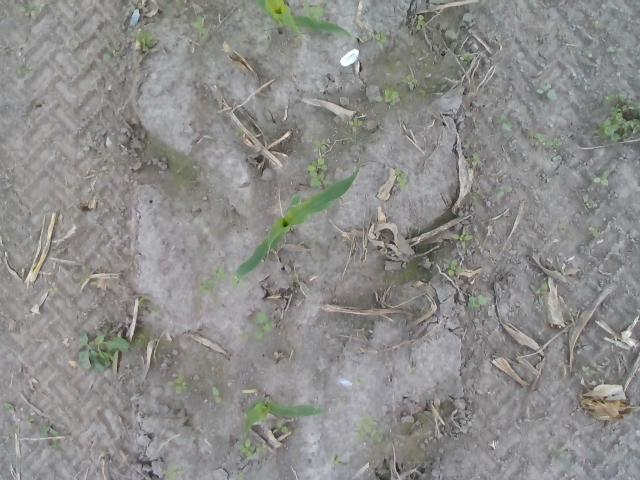Maize: (235, 167, 360, 278), (255, 0, 353, 38), (244, 396, 328, 432)
Weeds: (597, 92, 640, 144), (77, 330, 130, 372), (198, 263, 240, 296), (307, 138, 332, 188), (355, 412, 383, 442), (528, 129, 560, 152), (26, 415, 57, 438), (254, 310, 274, 342), (238, 438, 266, 460), (536, 79, 558, 103), (302, 0, 327, 21), (190, 13, 209, 40), (373, 88, 401, 106), (131, 30, 157, 48), (442, 256, 464, 276), (168, 373, 188, 395), (451, 230, 473, 248), (394, 164, 409, 190), (167, 462, 185, 480), (591, 170, 609, 188), (468, 294, 488, 310), (533, 278, 550, 296), (78, 264, 92, 285), (398, 74, 418, 88), (272, 418, 288, 434), (348, 118, 366, 132), (14, 63, 34, 75), (550, 448, 565, 464), (17, 5, 35, 18), (494, 186, 512, 199), (211, 386, 224, 404), (497, 115, 513, 129), (467, 152, 481, 168), (376, 30, 390, 44), (104, 47, 118, 60), (582, 193, 593, 209), (588, 225, 602, 237), (416, 14, 426, 30), (151, 304, 161, 319), (581, 365, 593, 377), (328, 456, 342, 466), (232, 126, 244, 137), (133, 338, 145, 348), (460, 54, 472, 64), (470, 190, 480, 202), (606, 46, 619, 55), (239, 329, 248, 341), (47, 287, 63, 293), (462, 144, 472, 152), (355, 377, 364, 385), (175, 0, 184, 8), (238, 472, 246, 480), (138, 296, 144, 306)
